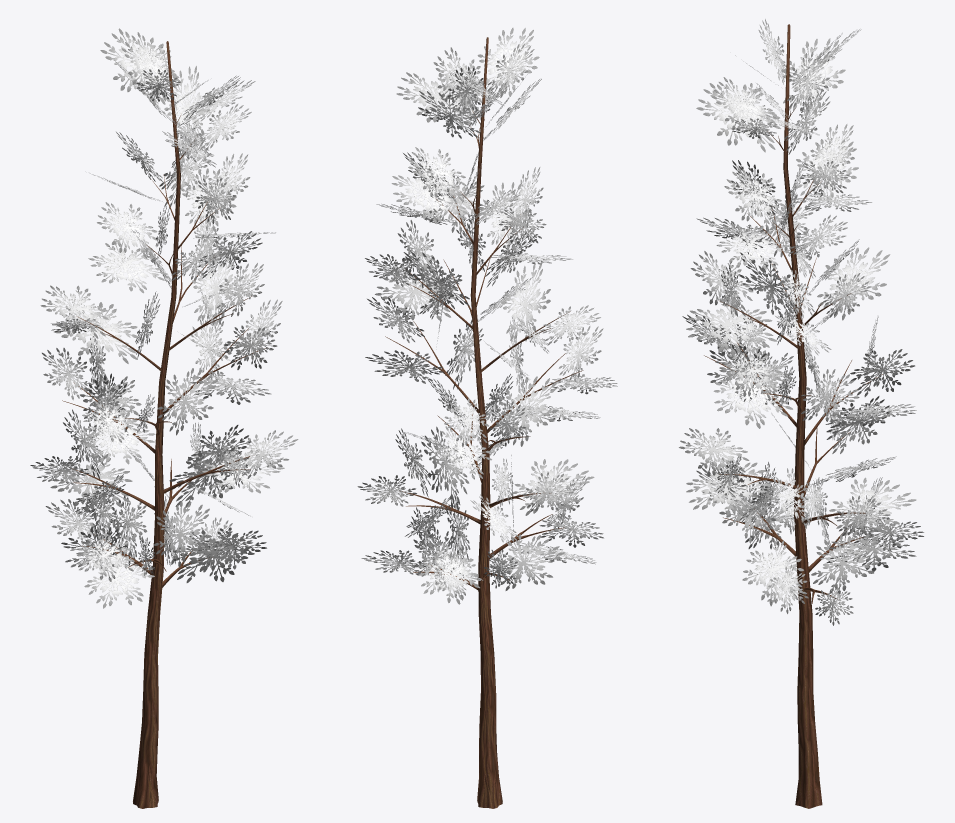
The model's file is ArbolPrueba1.fbx.
3 renders of one model, left to right at view 1: azimuth 30°, elevation 25°; view 2: azimuth 150°, elevation 25°; view 3: azimuth 270°, elevation 25°, orthographic. The views are drawn at different scales.
Visible parts, largest first — view 1: Tree_1, Tree_0; view 2: Tree_1, Tree_0; view 3: Tree_1, Tree_0.
Part boxes in pixels (box(x1,y1,x2,y2)): Tree_1: box(30, 28, 298, 608); Tree_0: box(62, 41, 267, 808); Tree_1: box(357, 28, 617, 604); Tree_0: box(385, 37, 583, 808); Tree_1: box(679, 19, 923, 625); Tree_0: box(704, 24, 882, 808).
Bounding box in the file's own units: 373 × 1047 × 337.
Materials: 2 (2 with a texture image).
